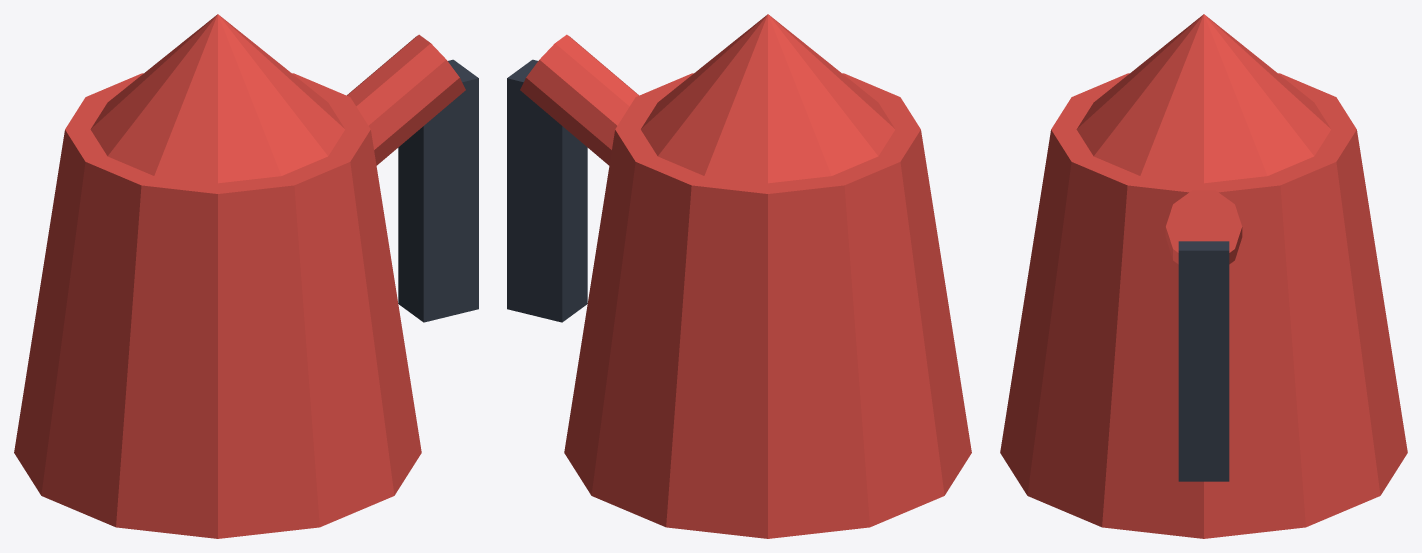
Rendered from Kitchen_Kettle.fbx.
The picture shows the model from 3 angles, left to right: view 1: azimuth 30°, elevation 25°; view 2: azimuth 150°, elevation 25°; view 3: azimuth 270°, elevation 25°; orthographic projection.
Visible parts, largest first — view 1: Kettle; view 2: Kettle; view 3: Kettle.
Part boxes in pixels (bbox=[...]): Kettle: bbox=[14, 14, 478, 538]; Kettle: bbox=[507, 14, 971, 538]; Kettle: bbox=[1000, 14, 1407, 538].
Size of the model in its own units: 0.385 by 0.38 by 0.32.
